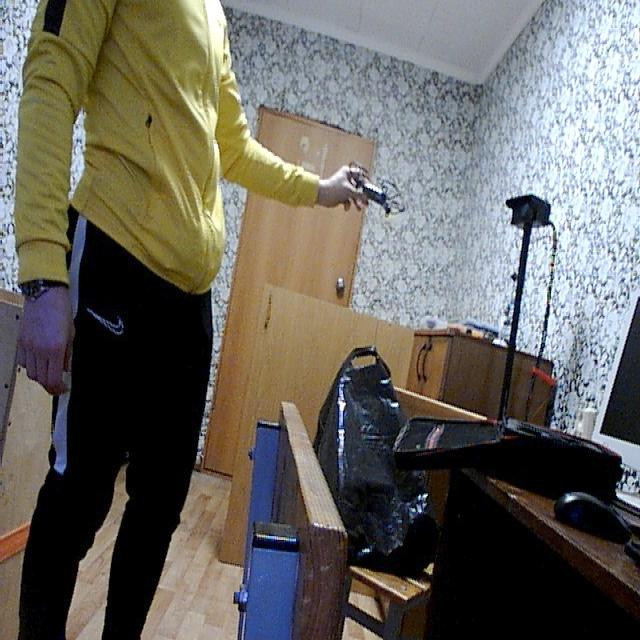drone: (336, 157, 406, 225)
